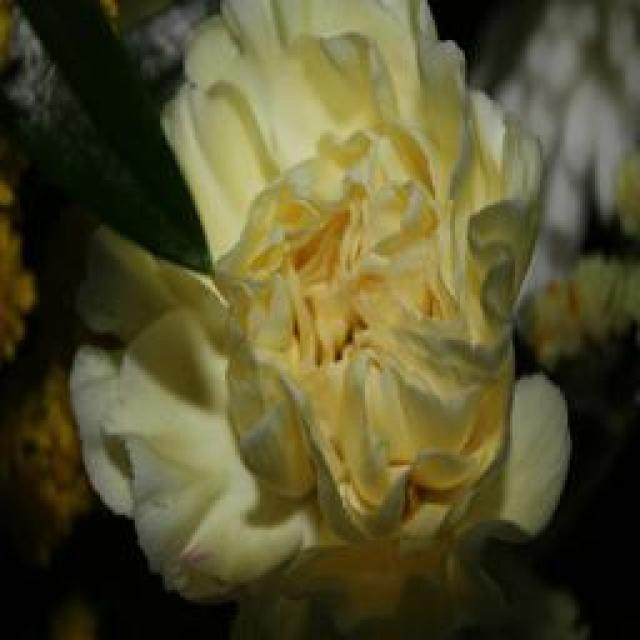carnation: (58, 12, 576, 610)
